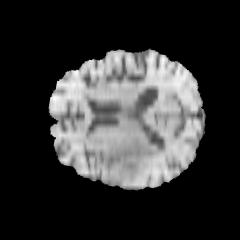glioma: (106, 139, 160, 181)
